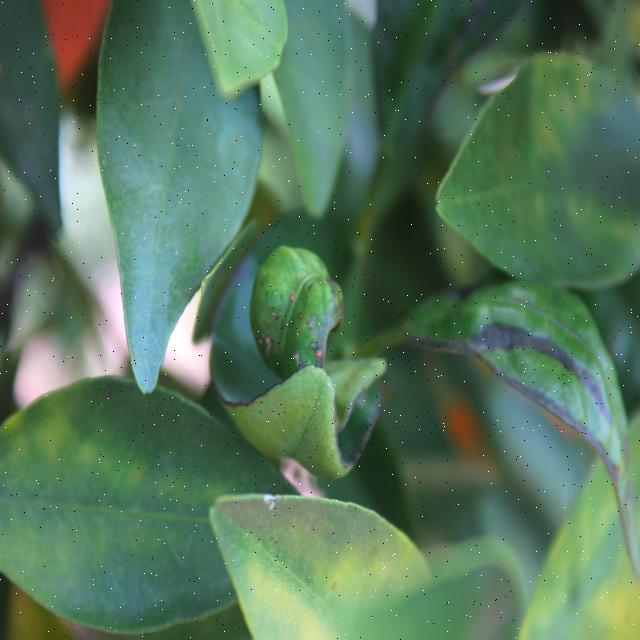canker: (262, 286, 330, 387)
